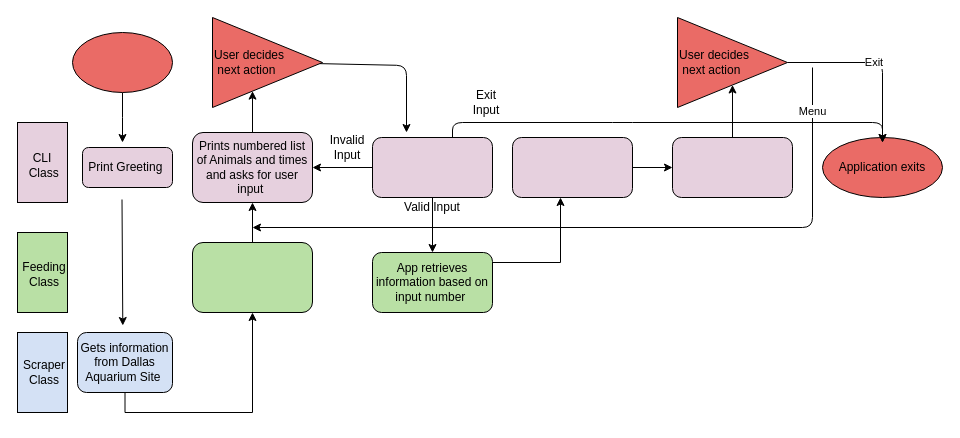
The diagram is 960 pixels wide and 438 high, and some of its shapes have lost their labels. The centre of each missing label's shape, as x and y in pixels:
New Animal Objects & Feeding Time Objects are created and stored: pixel 252 277
Prints menu options (numbered list or exit) and asks for user input: pixel 732 167
Prints time or animal from valid input: pixel 572 167
User inputs number of action: pixel 432 167
User Starts App: pixel 122 62
